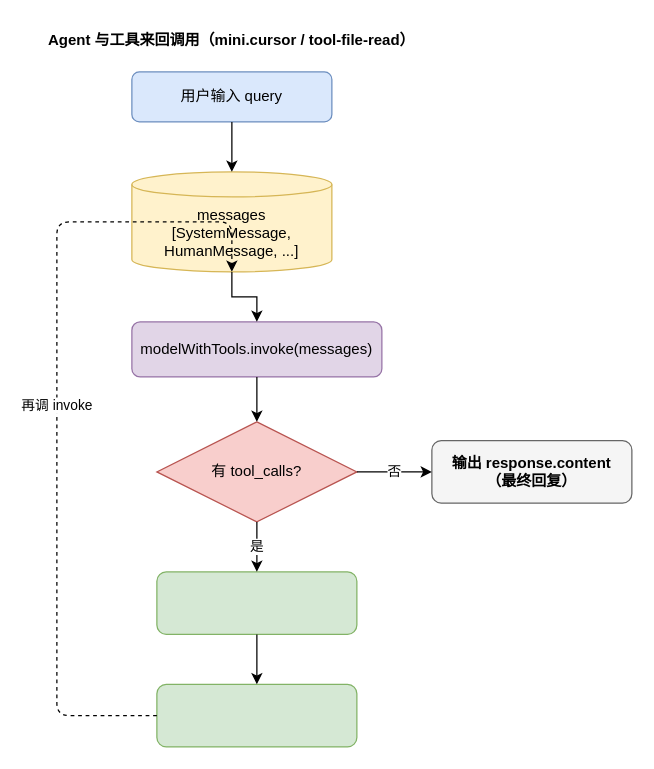
Some shapes in this 654 by 769 pixel diagram are drawn without their labels. The centre of each missing label's shape, as x and y in pixels:
"按 name 找到工具 tool.invoke(args)" belongs at point (256, 602).
"构造 ToolMessage push 进 messages" belongs at point (256, 715).
